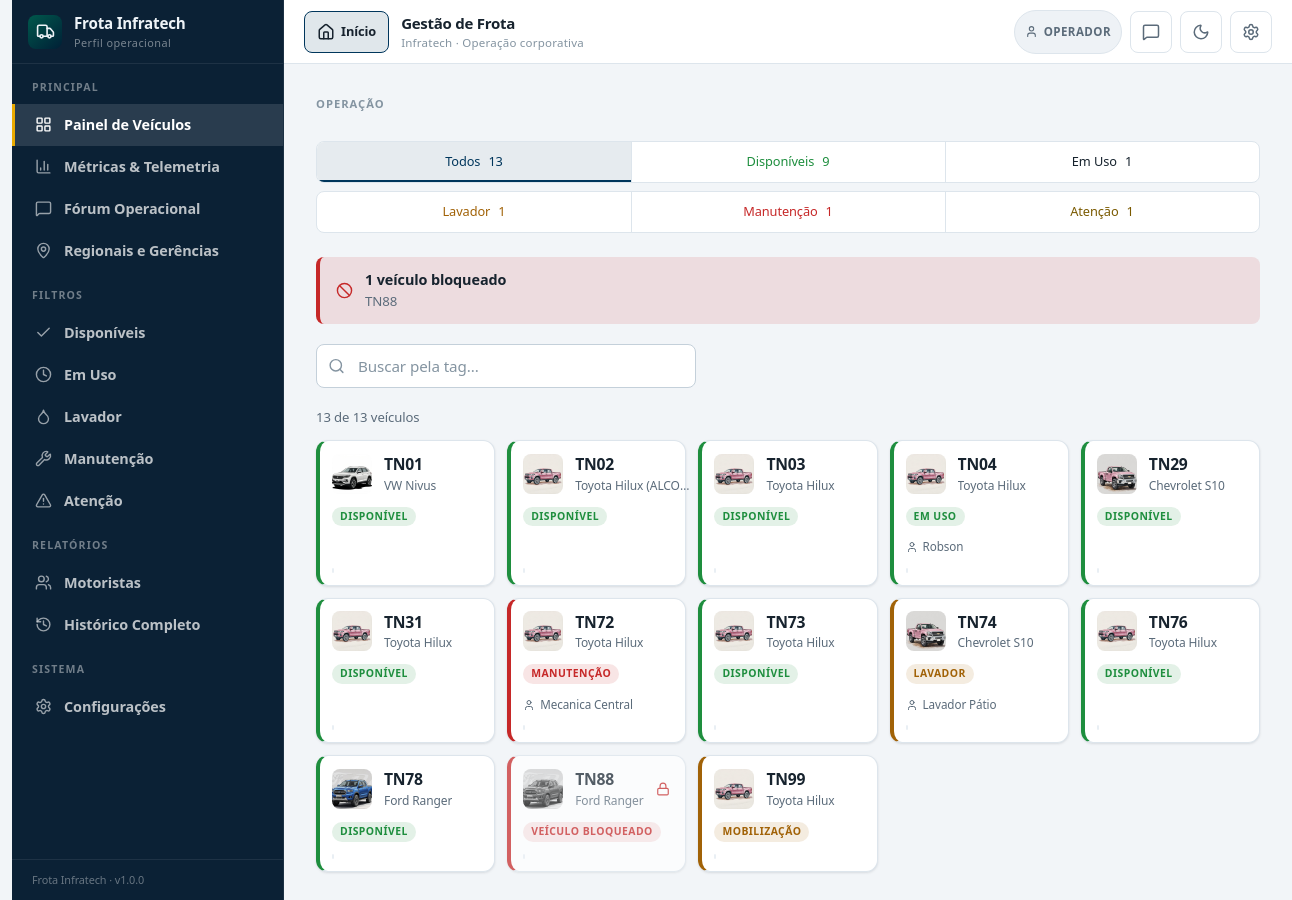
Test: Aplicação — operação › a barra superior tem o ícone de mensagens e leva ao fórum
The image size is (1292, 900).
Expected: the element named "Frota Infratech" is shown, [12,0,284,899]
What coordinates should you click on to do the following:
click the button named "Fórum de mensagens"
I would click on:
 (1151, 32)
Its box is [1130,10,1172,52].
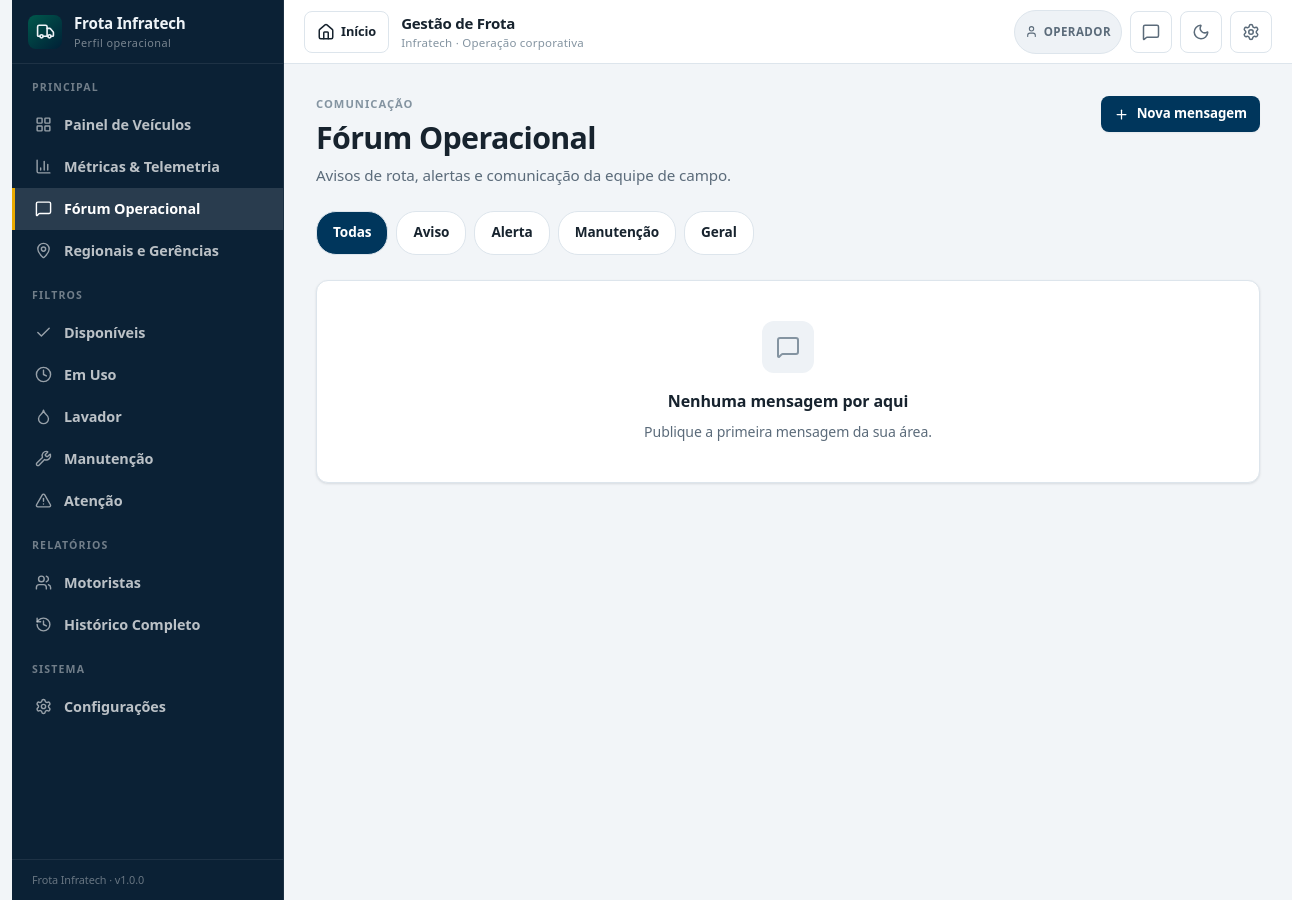
Expected: the heading "Fórum Operacional" is shown, [316,117,596,158]
